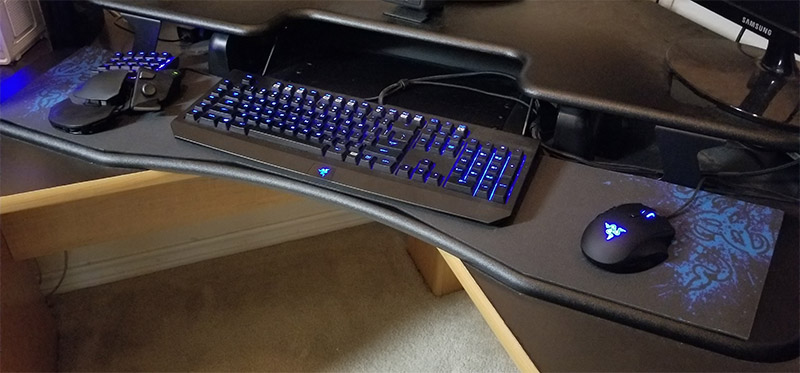keyboard: (170, 61, 554, 229)
mouse: (573, 184, 685, 277)
